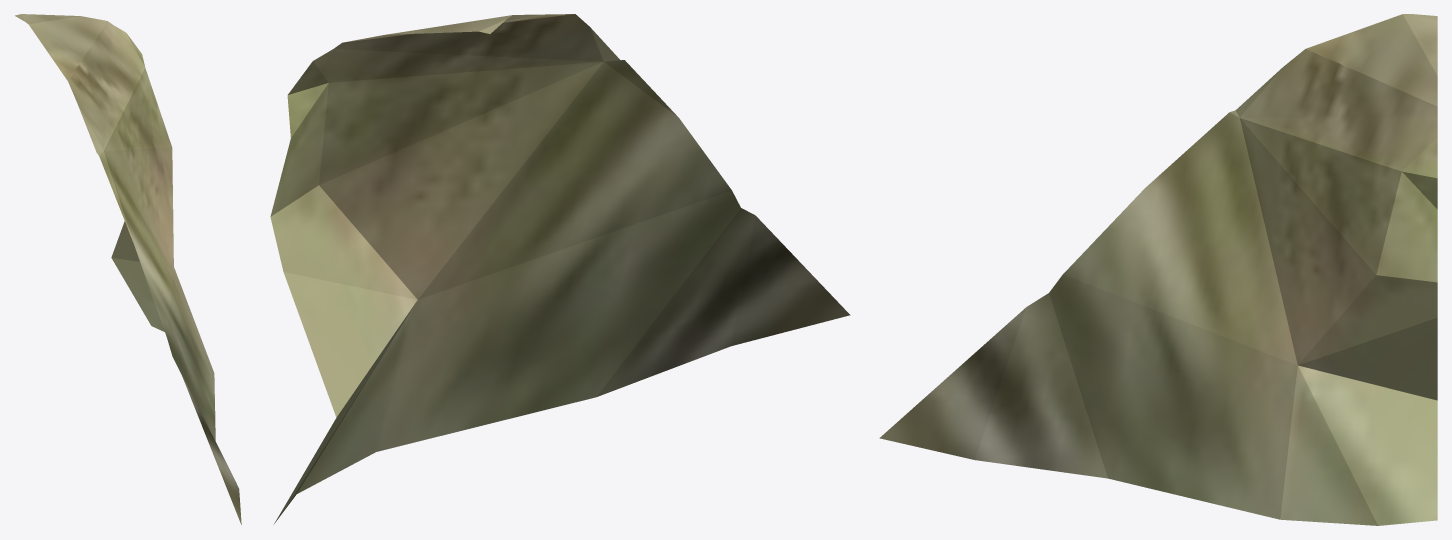
The picture shows the model from 3 angles, left to right: view 1: azimuth 30°, elevation 25°; view 2: azimuth 150°, elevation 25°; view 3: azimuth 270°, elevation 25°; orthographic projection. The views are drawn at different scales.
Bounding box in the file's own units: 0.2783 × 0.628 × 0.7492.
Materials: 1 (1 with a texture image).
